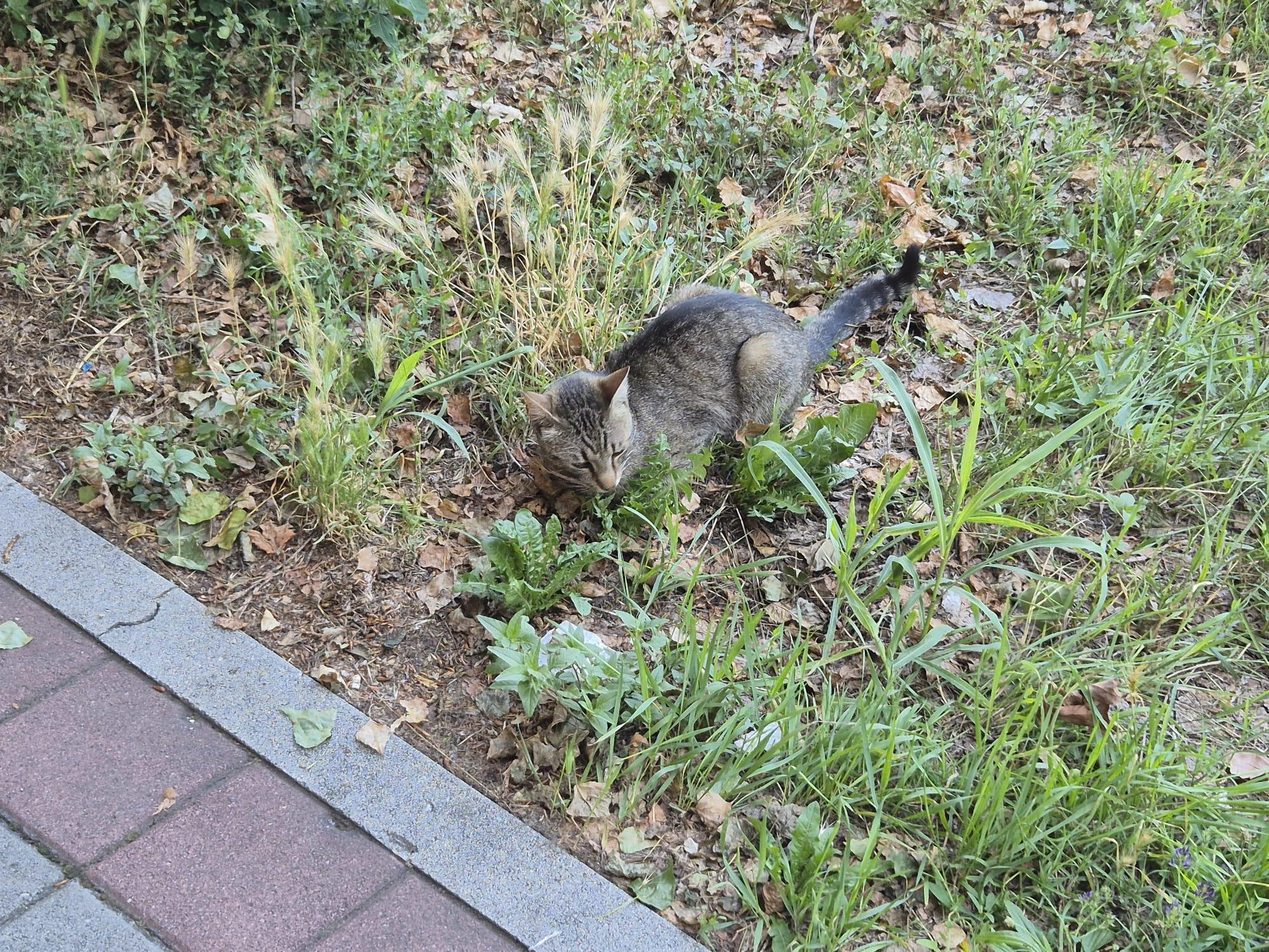macka: (520, 245, 921, 511)
